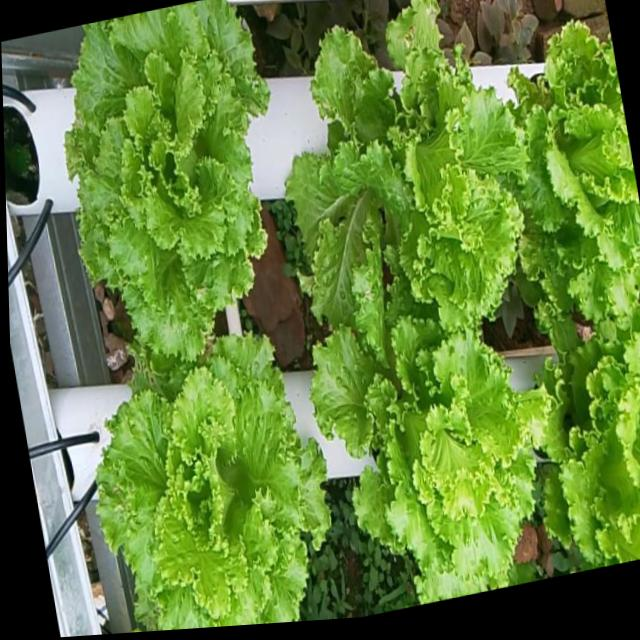Mature: (292, 0, 533, 316), (74, 0, 277, 363), (320, 282, 548, 600), (108, 326, 340, 632), (517, 4, 640, 306), (554, 310, 640, 566)
